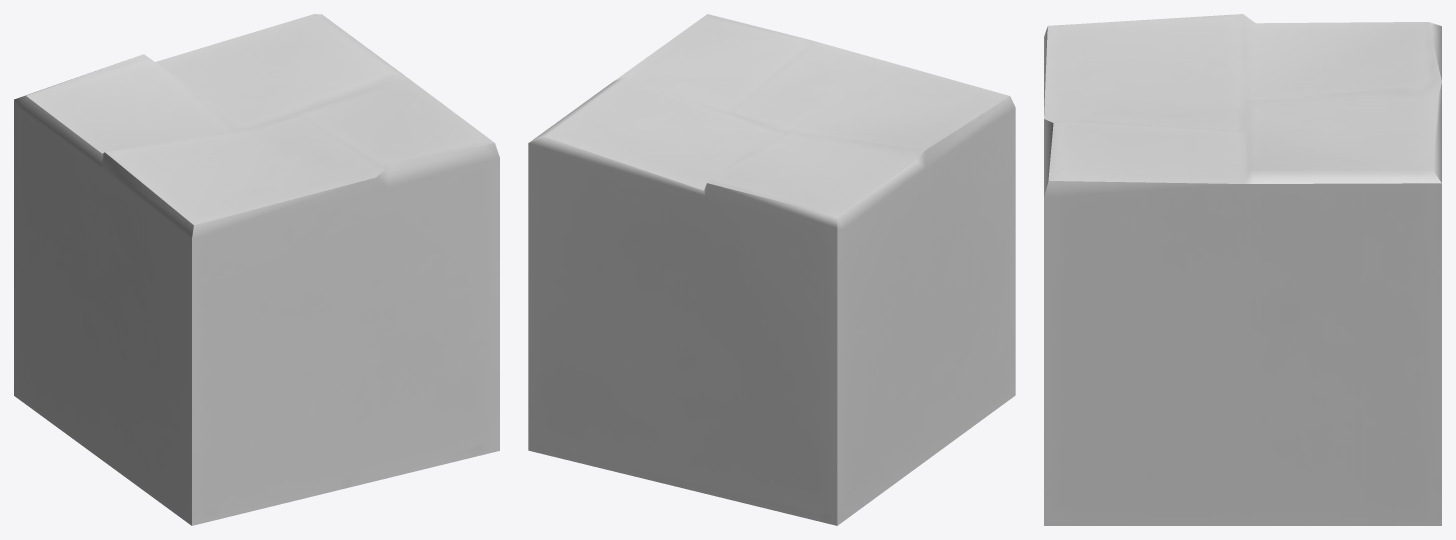
The model's file is Pfb_PaperBox__11.fbx.
The picture shows the model from 3 angles, left to right: view 1: azimuth 30°, elevation 25°; view 2: azimuth 150°, elevation 25°; view 3: azimuth 270°, elevation 25°; orthographic projection. The views are drawn at different scales.
Parts seen in each view (by area): view 1: Mat_PaperBox_01_02; view 2: Mat_PaperBox_01_02; view 3: Mat_PaperBox_01_02.
Part boxes in pixels (box(x1,y1,x2,y2)): Mat_PaperBox_01_02: box(14, 14, 499, 525); Mat_PaperBox_01_02: box(528, 14, 1015, 525); Mat_PaperBox_01_02: box(1044, 14, 1441, 525).
Bounding box in the file's own units: 1 × 0.97 × 1.
Materials: 1 (1 with a texture image).
